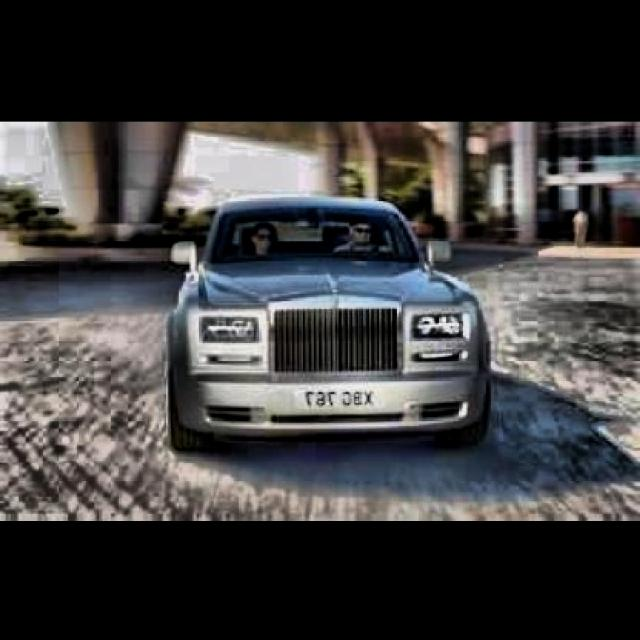silver: (168, 200, 485, 450)
